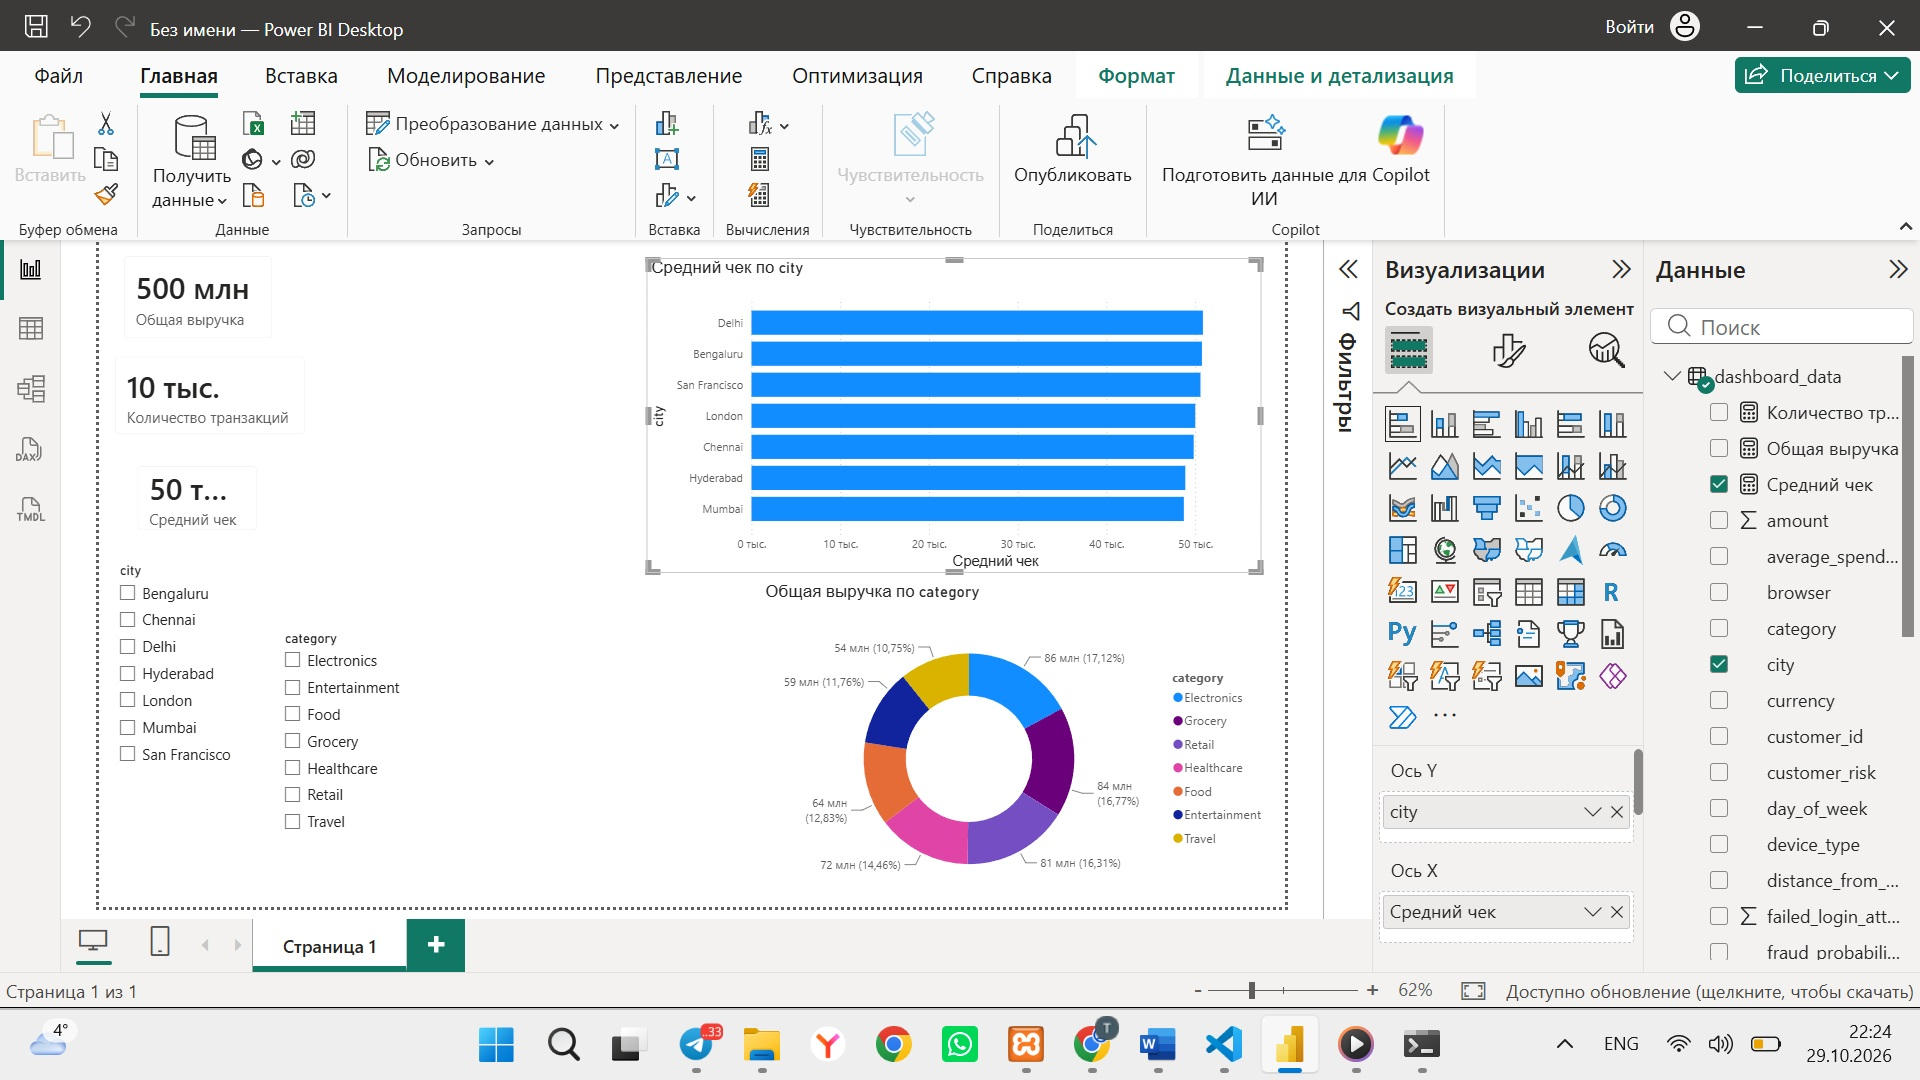

This screenshot's page, from the dashboard's own definition file:
{"tool":"powerbi","page":{"name":"Страница 1","canvas":[1280,720],"ordinal":0},"visuals":[{"type":"cardVisual","fields":{"Data":["dashboard_data.Общая выручка"]},"box":[9.7,0,194.3,123.1],"z":0},{"type":"cardVisual","fields":{"Data":["dashboard_data.Количество транзакций"]},"box":[0,108.5,239.6,118.2],"z":1},{"type":"cardVisual","fields":{"Data":["dashboard_data.Средний чек"]},"box":[24.3,226.7,163.5,103.6],"z":2},{"type":"barChart","fields":{"Category":["dashboard_data.city"],"Y":["dashboard_data.Средний чек"]},"box":[591,19.4,663.9,340],"z":3},{"type":"donutChart","fields":{"Category":["dashboard_data.category"],"Y":["dashboard_data.Общая выручка"]},"box":[714.1,369.2,555.4,351.4],"z":4},{"type":"slicer","fields":{"Values":["dashboard_data.city"]},"box":[9.7,343.3,194.3,242.9],"z":5},{"type":"slicer","fields":{"Values":["dashboard_data.category"]},"box":[187.8,416.1,161.9,231.5],"z":6}]}

Visuals, with their boxes on the page's 1280x720 design canvas (x1, y1, x2, y2). These are canvas units, not pixel positions in the 1920x1080 screenshot, which may show the page scaled, cropped or inside an application window:
cardVisual - dashboard_data.Общая выручка: [10, 0, 204, 123]
cardVisual - dashboard_data.Количество транзакций: [0, 108, 240, 227]
cardVisual - dashboard_data.Средний чек: [24, 227, 188, 330]
barChart - dashboard_data.city x dashboard_data.Средний чек: [591, 19, 1255, 359]
donutChart - dashboard_data.category x dashboard_data.Общая выручка: [714, 369, 1270, 721]
slicer - dashboard_data.city: [10, 343, 204, 586]
slicer - dashboard_data.category: [188, 416, 350, 648]
